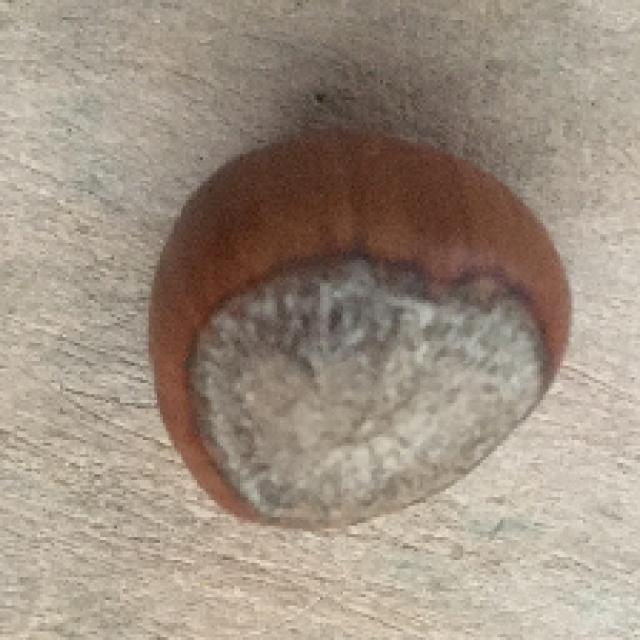QualityHazelnut: (146, 120, 575, 532)
